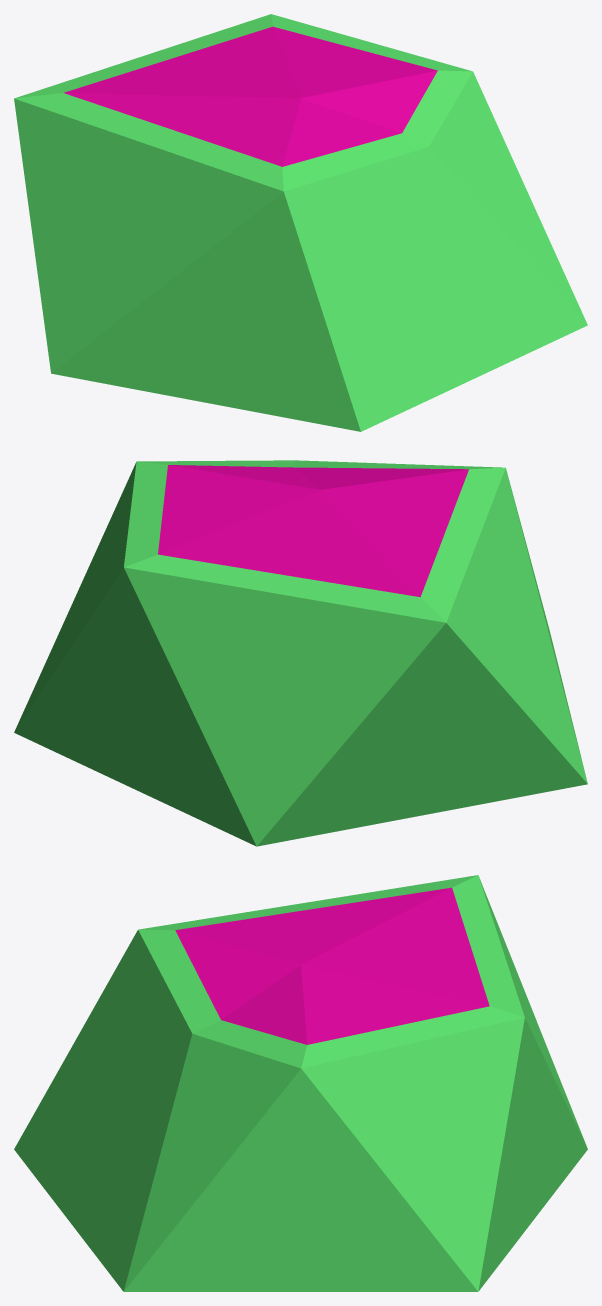
The model's file is rocher01.fbx.
The picture shows the model from 3 angles, top to bottom: view 1: azimuth 30°, elevation 25°; view 2: azimuth 150°, elevation 25°; view 3: azimuth 270°, elevation 25°; orthographic projection. The views are drawn at different scales.
Visible parts, largest first — view 1: Icosphere.001; view 2: Icosphere.001; view 3: Icosphere.001.
Part boxes in pixels (x1=…): Icosphere.001: x1=14, y1=14, x2=587, y2=431; Icosphere.001: x1=14, y1=460, x2=587, y2=846; Icosphere.001: x1=14, y1=875, x2=587, y2=1291.
Bounding box in the file's own units: 162 × 73.32 × 170.
